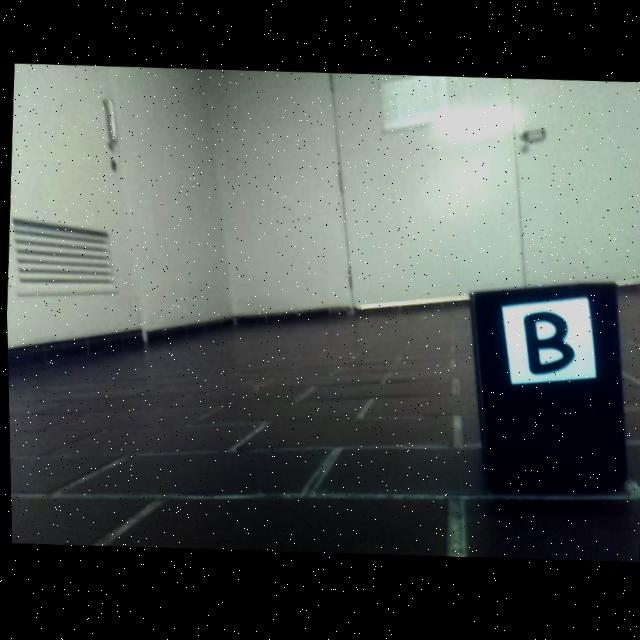B: (522, 315, 573, 378)
